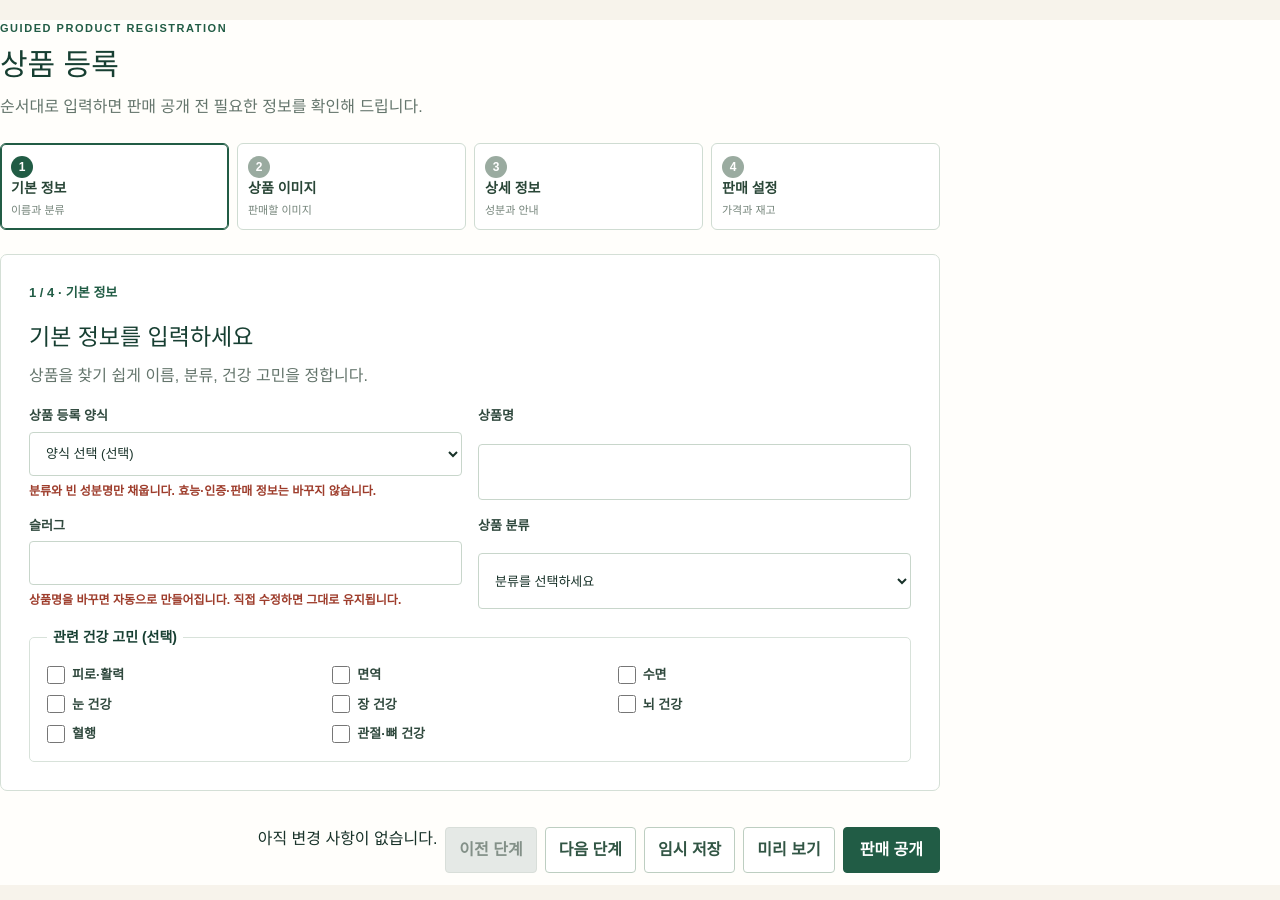
Test: contains preview failures and prevents duplicate preview requests while pending
The image size is (1280, 900).
What coordinates should you click on to do the following:
click the button "미리 보기"
I would click on:
 (789, 850)
Its box is [743,827,835,873].
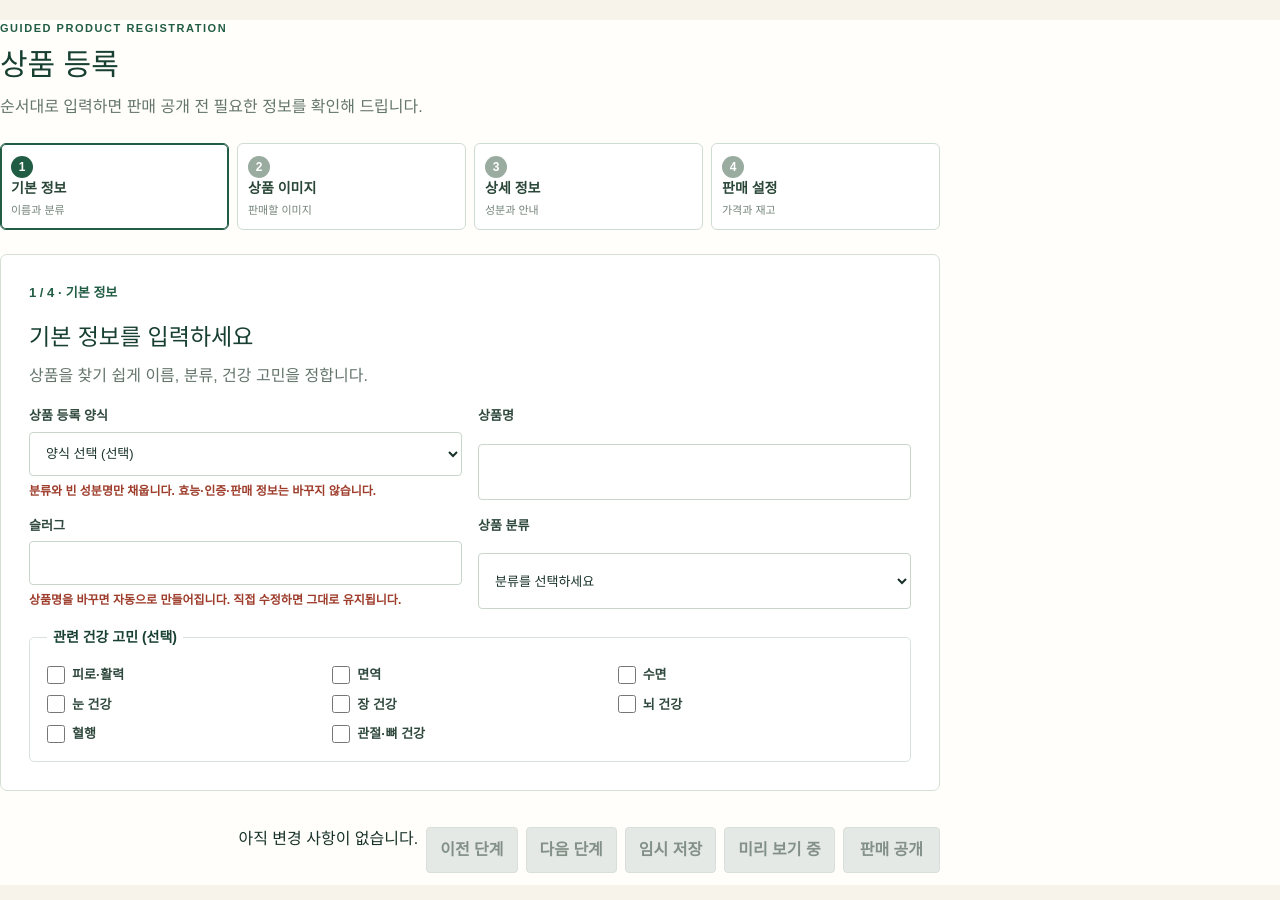
Expected: the button "미리 보기 중" is disabled
What coordinates should you click on to do the following:
click the button "미리 보기 중"
I would click on:
 (779, 850)
Its box is [724,827,835,873].
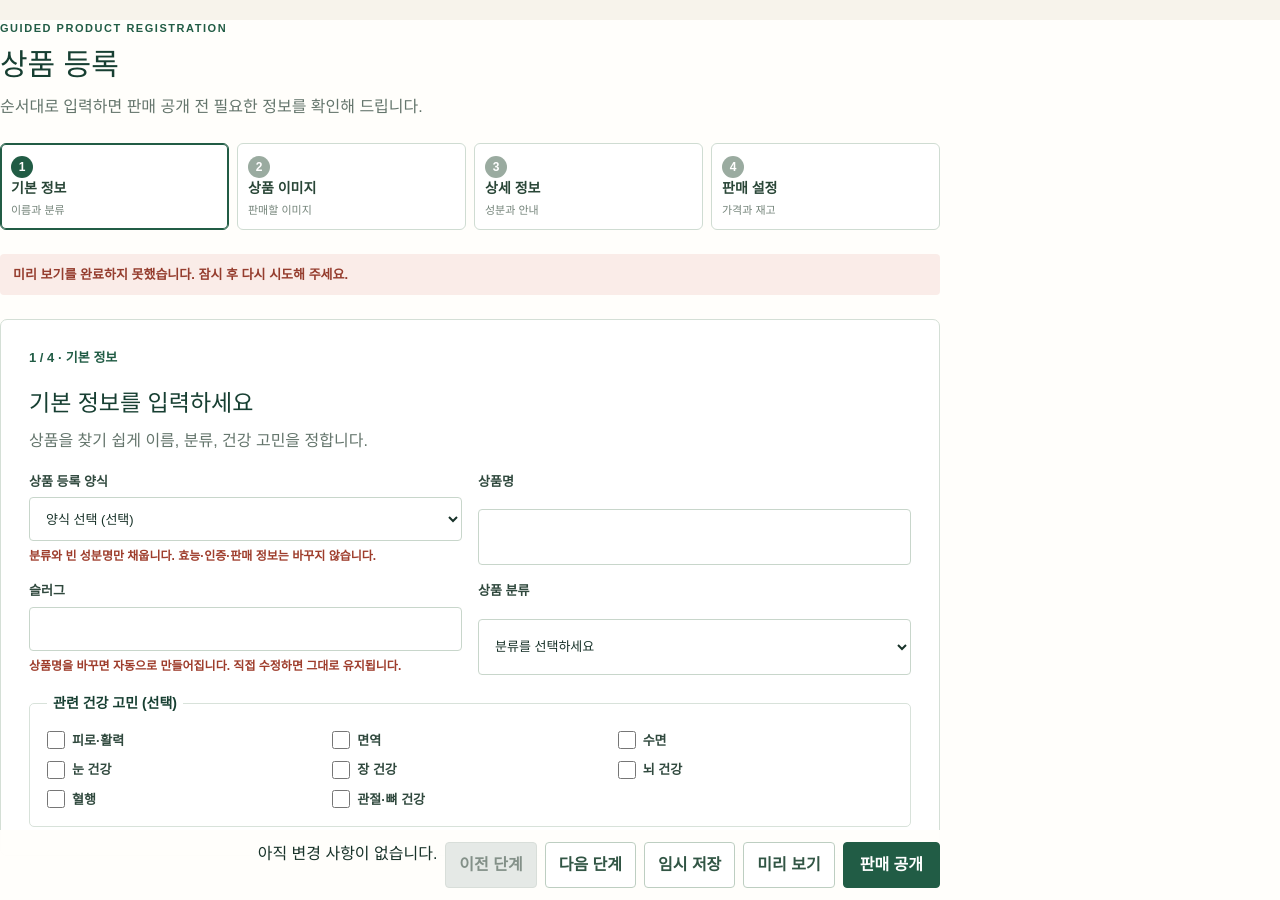
Expected: the message "미리 보기를 완료하지 못했습니다. 잠시 후 다시 시도해 주세요." is shown, [0,254,940,295]
